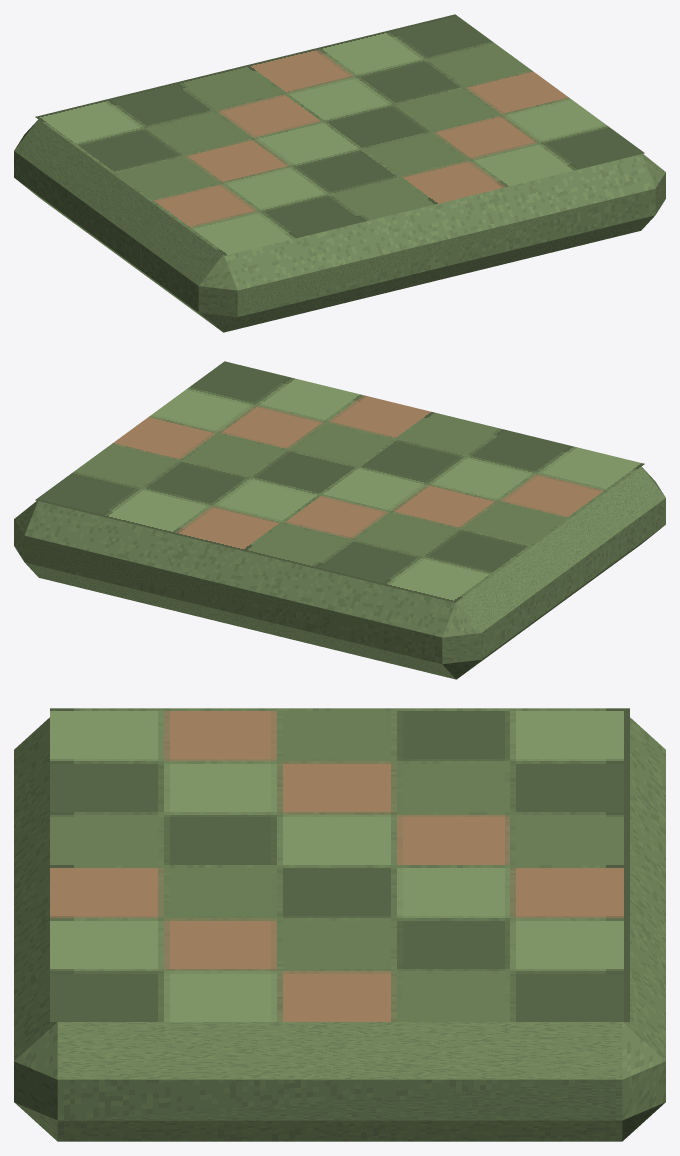
File: quilt_patchwork.glb
3 views of the same model, one above another, from view 1: azimuth 30°, elevation 25°; view 2: azimuth 150°, elevation 25°; view 3: azimuth 270°, elevation 25° (orthographic). The views are drawn at different scales.
Visible parts, largest first — view 1: block_hem or woven pattern, block_folded textile; view 2: block_hem or woven pattern, block_folded textile; view 3: block_hem or woven pattern, block_folded textile.
Boxes of the visible parts, bbox=[...] form: block_hem or woven pattern: bbox=[35, 14, 644, 255]; block_folded textile: bbox=[14, 119, 665, 332]; block_hem or woven pattern: bbox=[35, 361, 644, 602]; block_folded textile: bbox=[14, 466, 665, 679]; block_hem or woven pattern: bbox=[50, 708, 629, 1021]; block_folded textile: bbox=[14, 717, 665, 1141].
Bounding box in the file's own units: 0.43 × 0.0695 × 0.34.
1 material, 1 textured.
